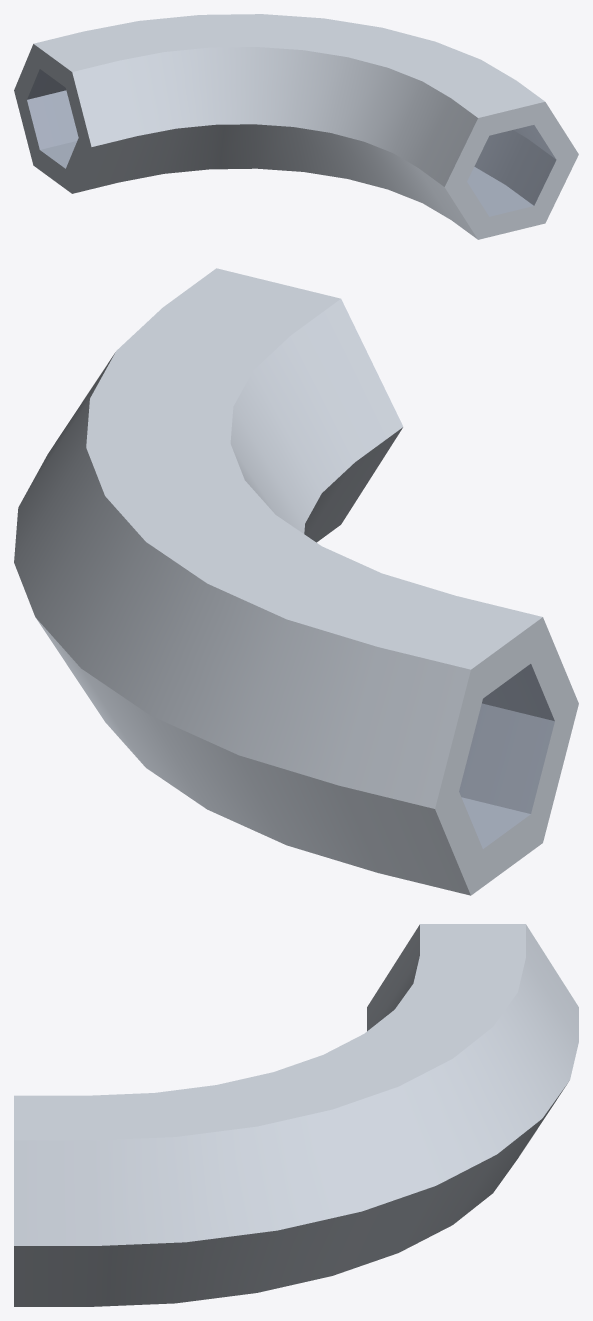
The model's file is pipe_cornerRoundLarge.dae.
3 renders of one model, top to bottom at view 1: azimuth 30°, elevation 25°; view 2: azimuth 150°, elevation 25°; view 3: azimuth 270°, elevation 25°, orthographic. The views are drawn at different scales.
Parts seen in each view (by area): view 1: pipe_cornerRoundLarge; view 2: pipe_cornerRoundLarge; view 3: pipe_cornerRoundLarge.
Part boxes in pixels (<box>): pipe_cornerRoundLarge: <box>14,14,578,239</box>; pipe_cornerRoundLarge: <box>14,268,578,895</box>; pipe_cornerRoundLarge: <box>14,924,578,1306</box>.
Bounding box in the file's own units: 1.85 × 0.6 × 1.85.
